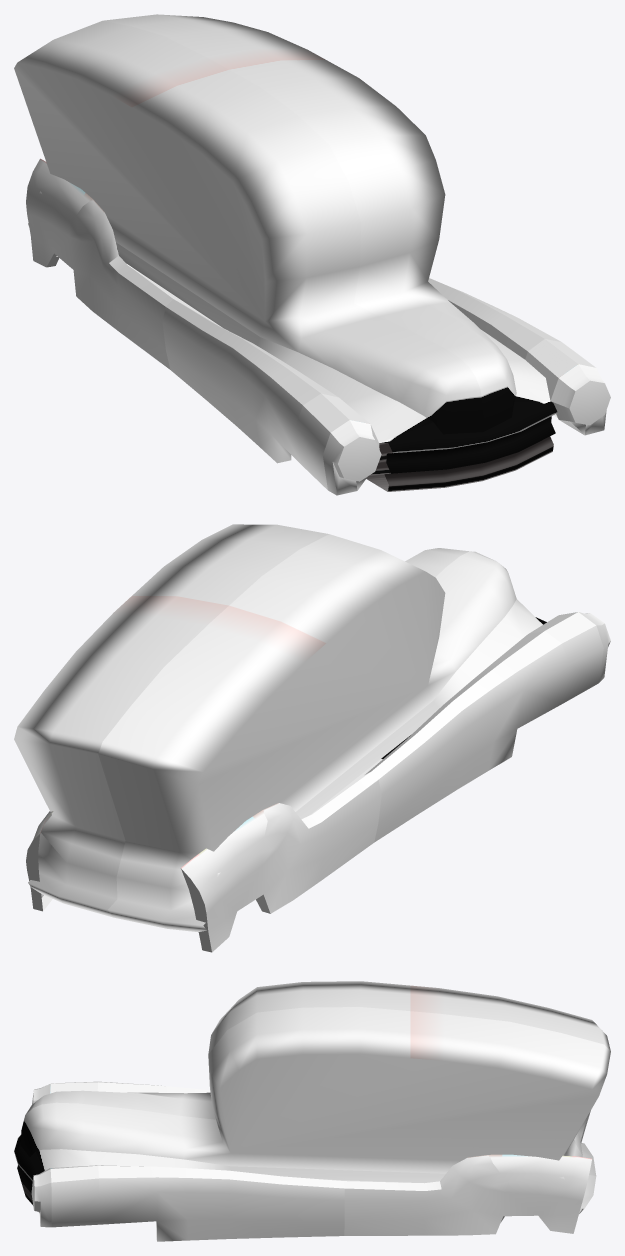
File: Funderalcar_body.fbx
3 renders of one model, top to bottom at view 1: azimuth 30°, elevation 25°; view 2: azimuth 150°, elevation 25°; view 3: azimuth 270°, elevation 25°, orthographic. The views are drawn at different scales.
Parts seen in each view (by area): view 1: funeralcar_body; view 2: funeralcar_body; view 3: funeralcar_body.
Boxes of the visible parts, <box> form: funeralcar_body: <box>14,14,610,495</box>; funeralcar_body: <box>14,524,610,952</box>; funeralcar_body: <box>14,981,610,1241</box>.
Bounding box in the file's own units: 389 × 335 × 935.
